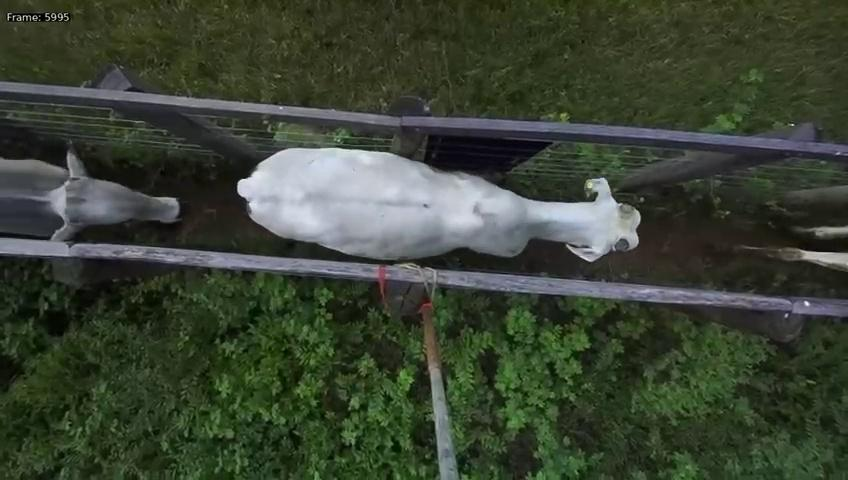cattle: (227, 136, 649, 267)
